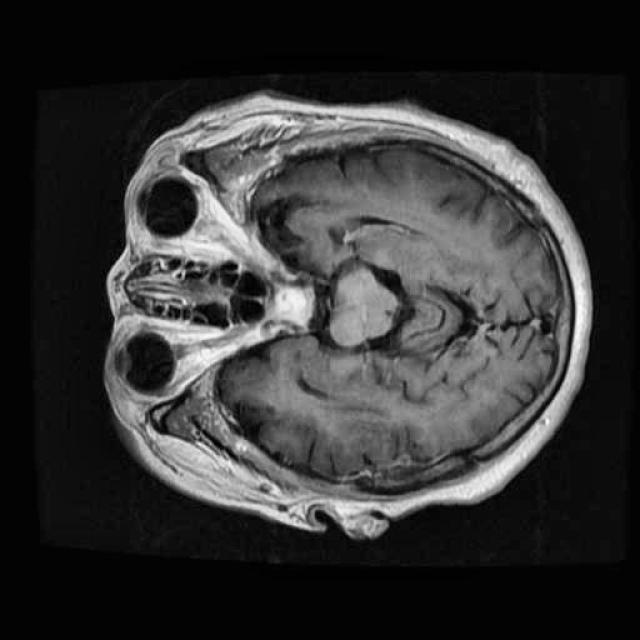Tumor: (266, 274, 322, 332)
